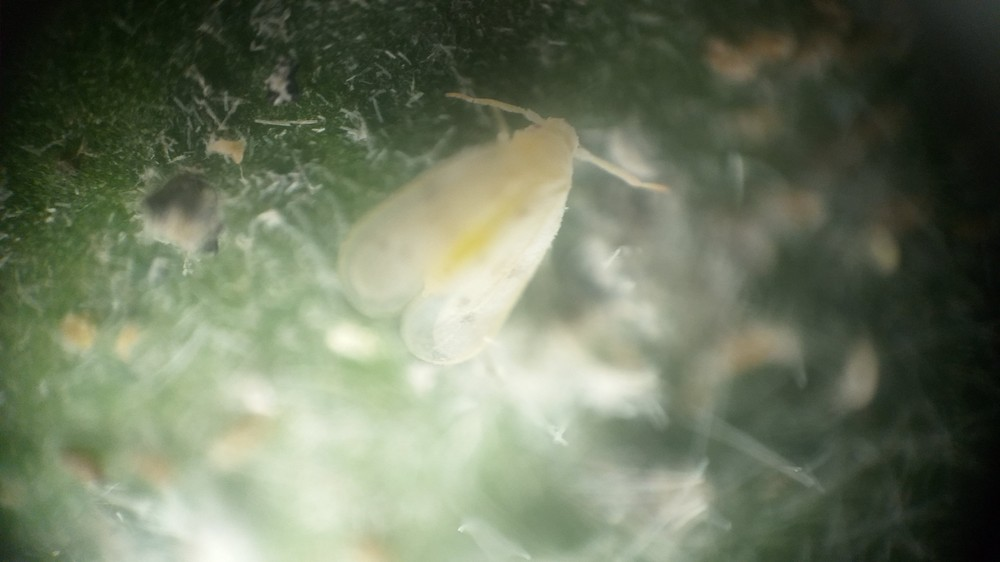Mosca Blanca: (319, 78, 692, 388)
